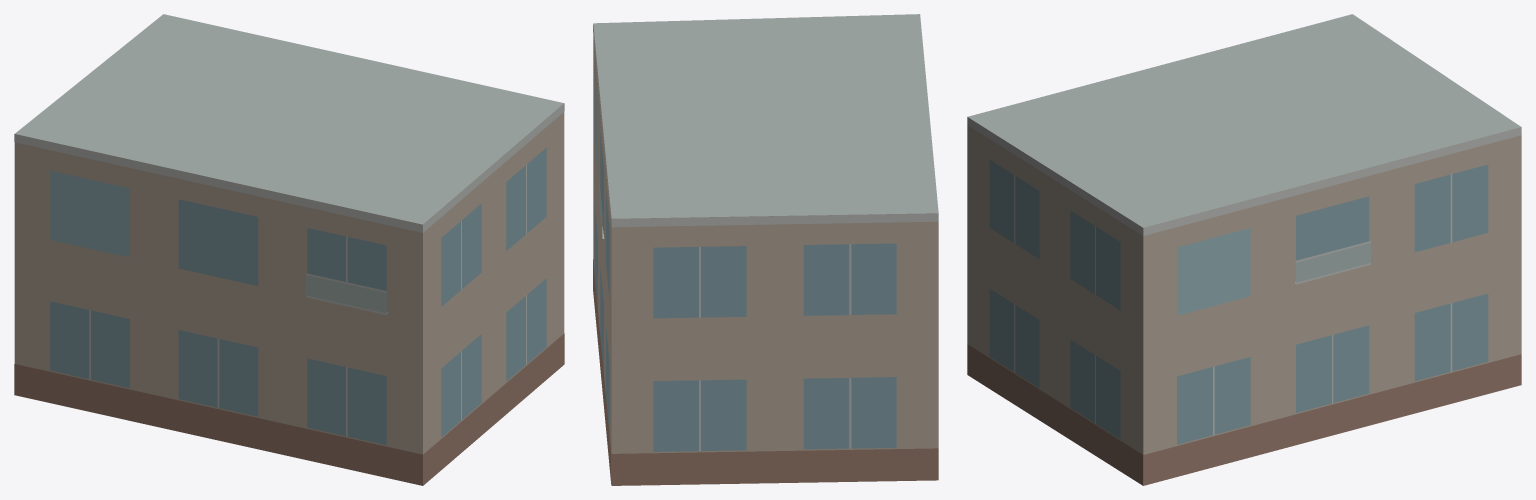
Rendered from survey-upis-33013128.glb.
3 views of the same model, side by side, from view 1: azimuth 30°, elevation 25°; view 2: azimuth 150°, elevation 25°; view 3: azimuth 270°, elevation 25° (orthographic). The views are drawn at different scales.
Visible parts, largest first — view 1: survey-upis-33013128.tmp; view 2: survey-upis-33013128.tmp; view 3: survey-upis-33013128.tmp.
Part boxes in pixels (x1,y1,x2,y2): survey-upis-33013128.tmp: (14,14,564,485); survey-upis-33013128.tmp: (593,14,938,485); survey-upis-33013128.tmp: (967,14,1521,485).
Size of the model in its own units: 13.7 by 7.7 by 15.
